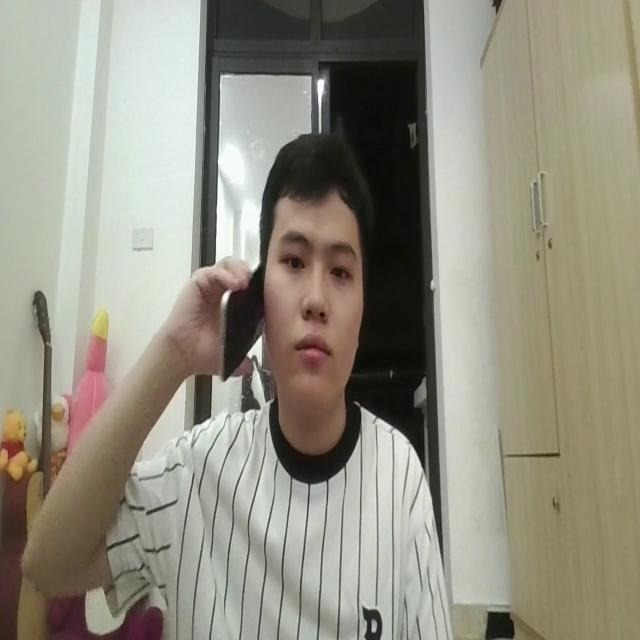phone: (219, 248, 269, 376)
student: (14, 126, 455, 640)
